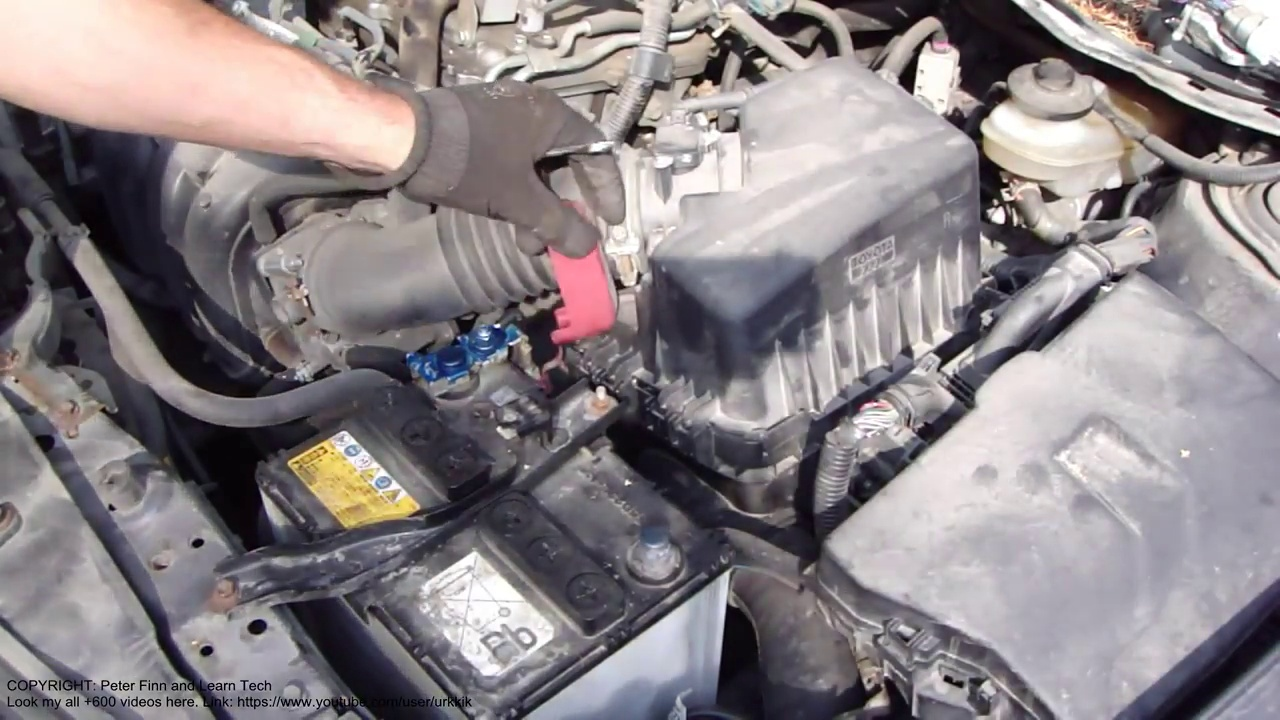battery: (254, 319, 733, 697)
neg_disconnected: (594, 503, 705, 591)
pos_connected: (394, 276, 621, 411)
pos_touched: (394, 96, 631, 393)
